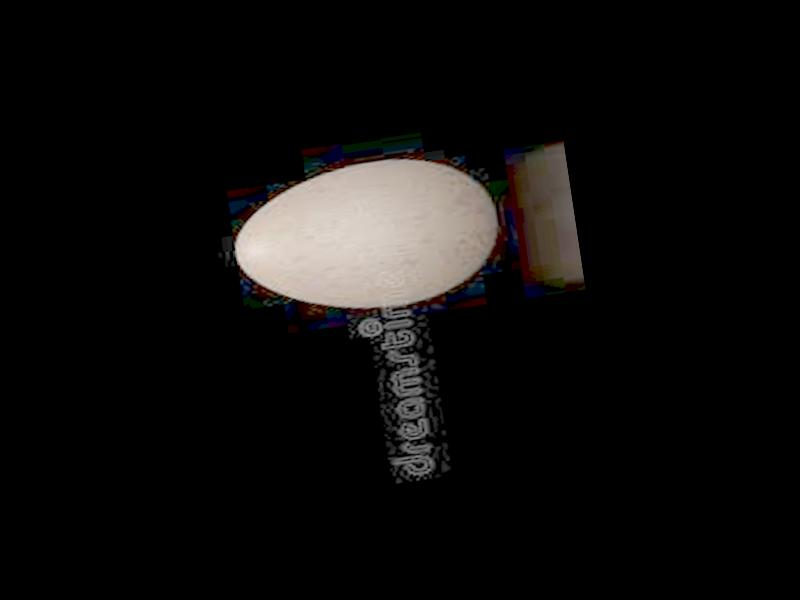Eggs: (223, 144, 507, 326)
